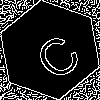C: (25, 25, 85, 83)
